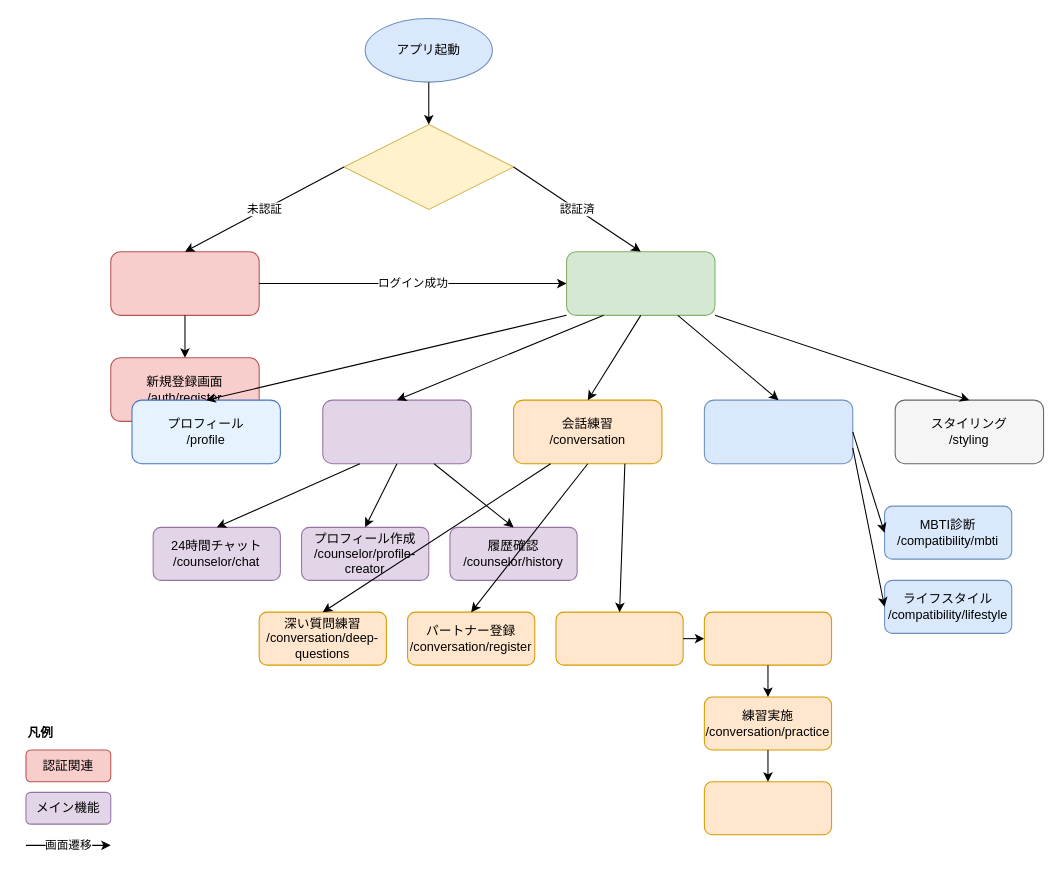
This 1062x872 diagram has some shape labels left out. The shapes that lost their labels are listed below. From the top down, each one's centre as x and y in pixels, then its label:
At (428,166): "認証チェック".
At (184,283): "ログイン画面 /auth/login".
At (640,283): "ホーム画面 /".
At (396,431): "AIカウンセラー /counselor".
At (778,431): "相性診断 /compatibility".
At (619,638): "パートナー一覧 /conversation/partners".
At (767,638): "練習設定 /conversation/setup".
At (767,808): "フィードバック /conversation/feedback".
